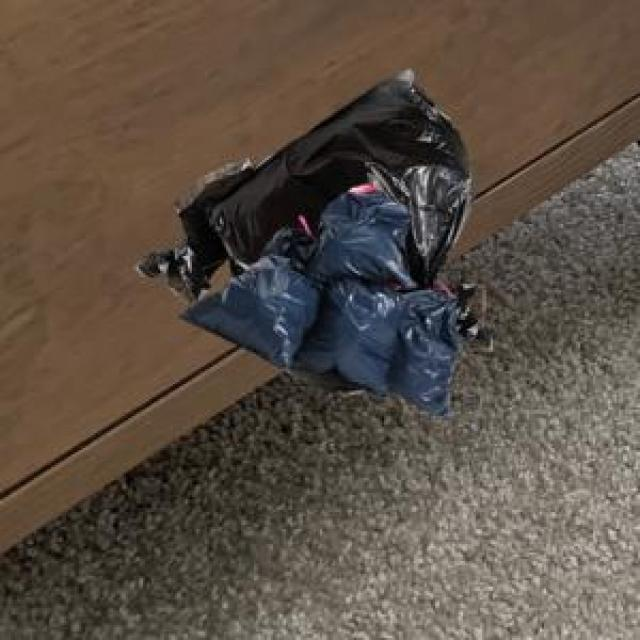Vinyl: (141, 70, 471, 413)
